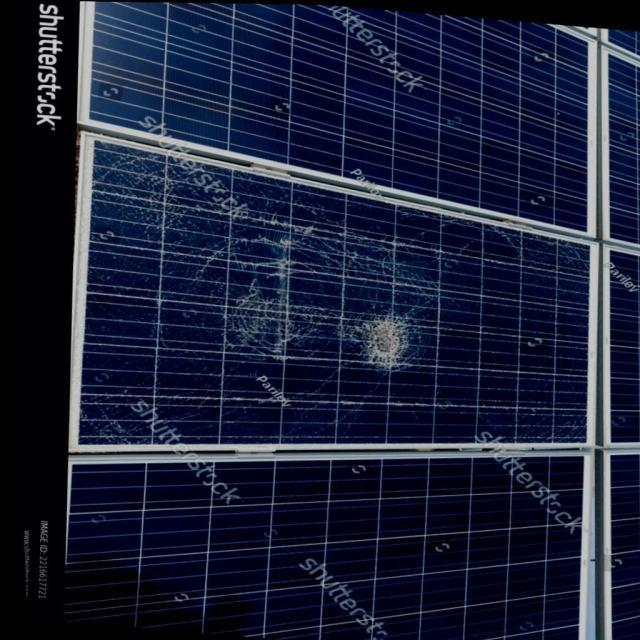cracked: (58, 134, 612, 456)
